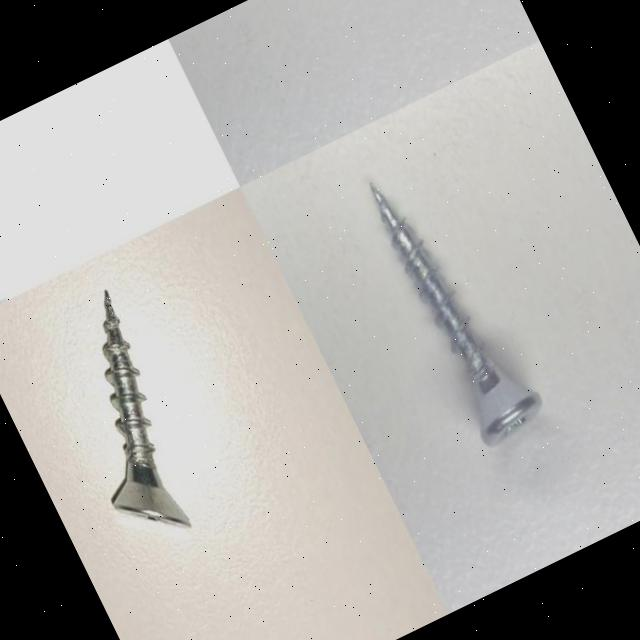Screw: (371, 185, 542, 448), (103, 291, 191, 528)
